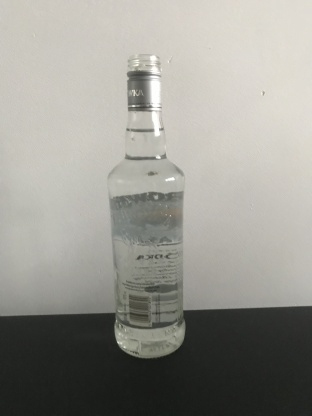nakretka: (124, 52, 163, 113)
